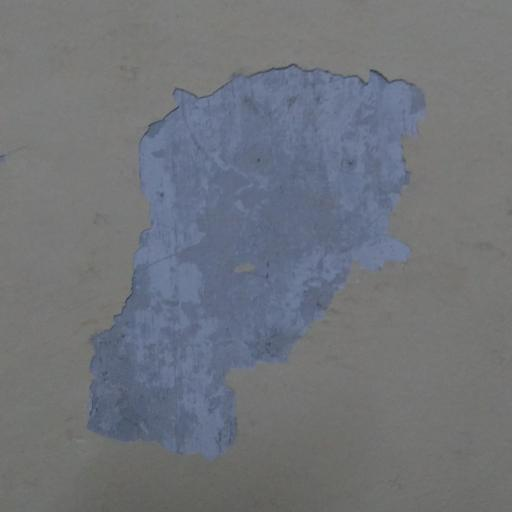peeling: (72, 54, 454, 467)
